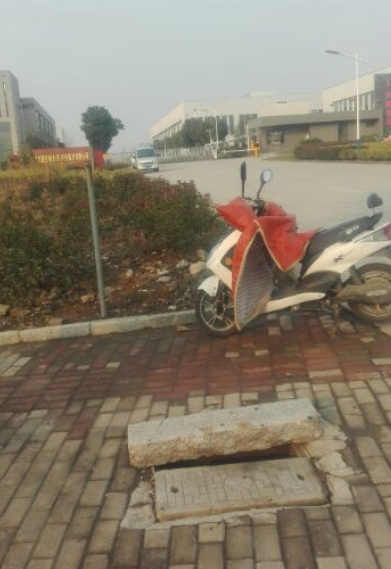uncovered: (127, 401, 334, 521)
